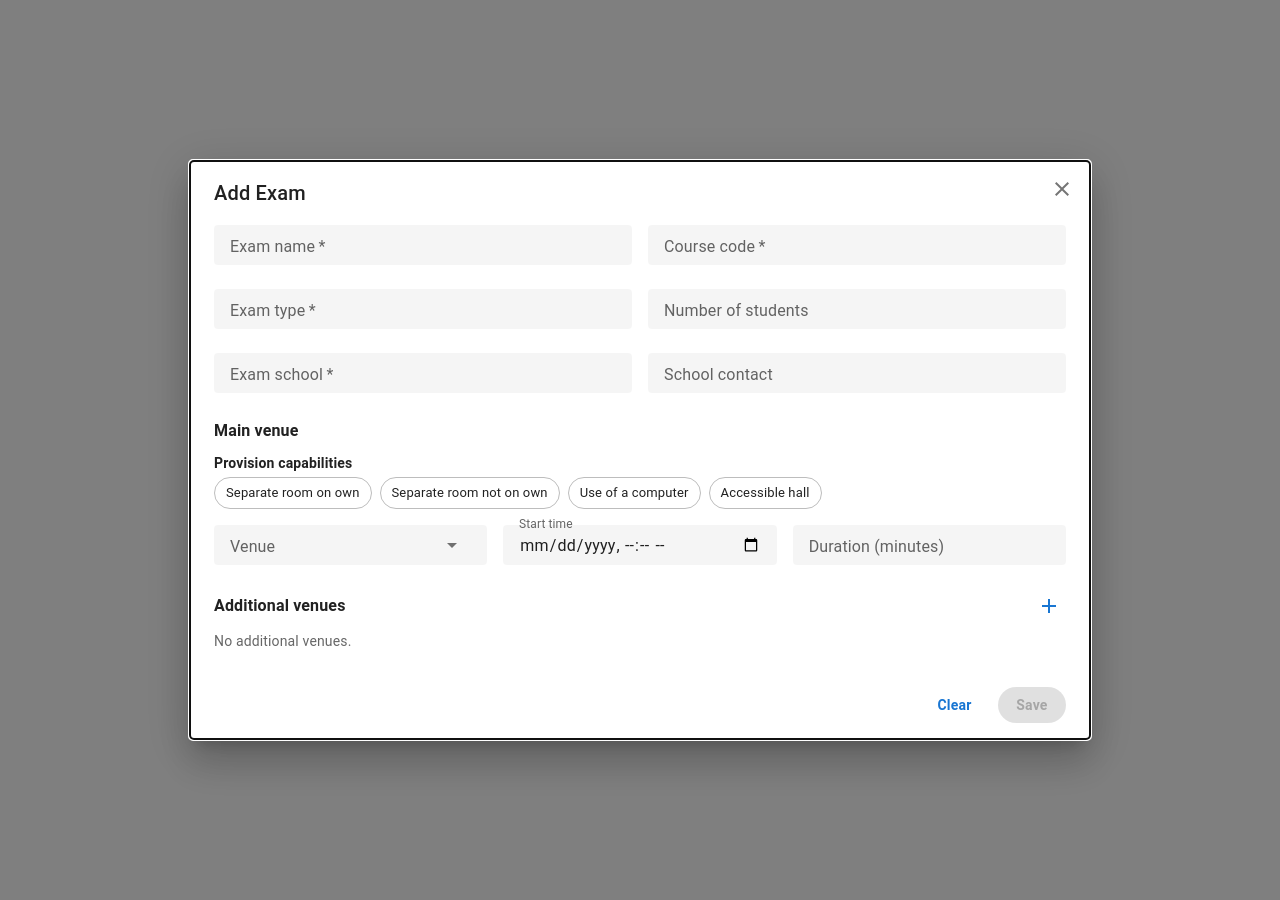
Scenario: EditExamDialog (create mode) › clears fields when Clear is clicked
The image size is (1280, 900).
In the field labelled "Exam name *": x=423, y=245 230,234 -> 616,257, type "Chem 101"
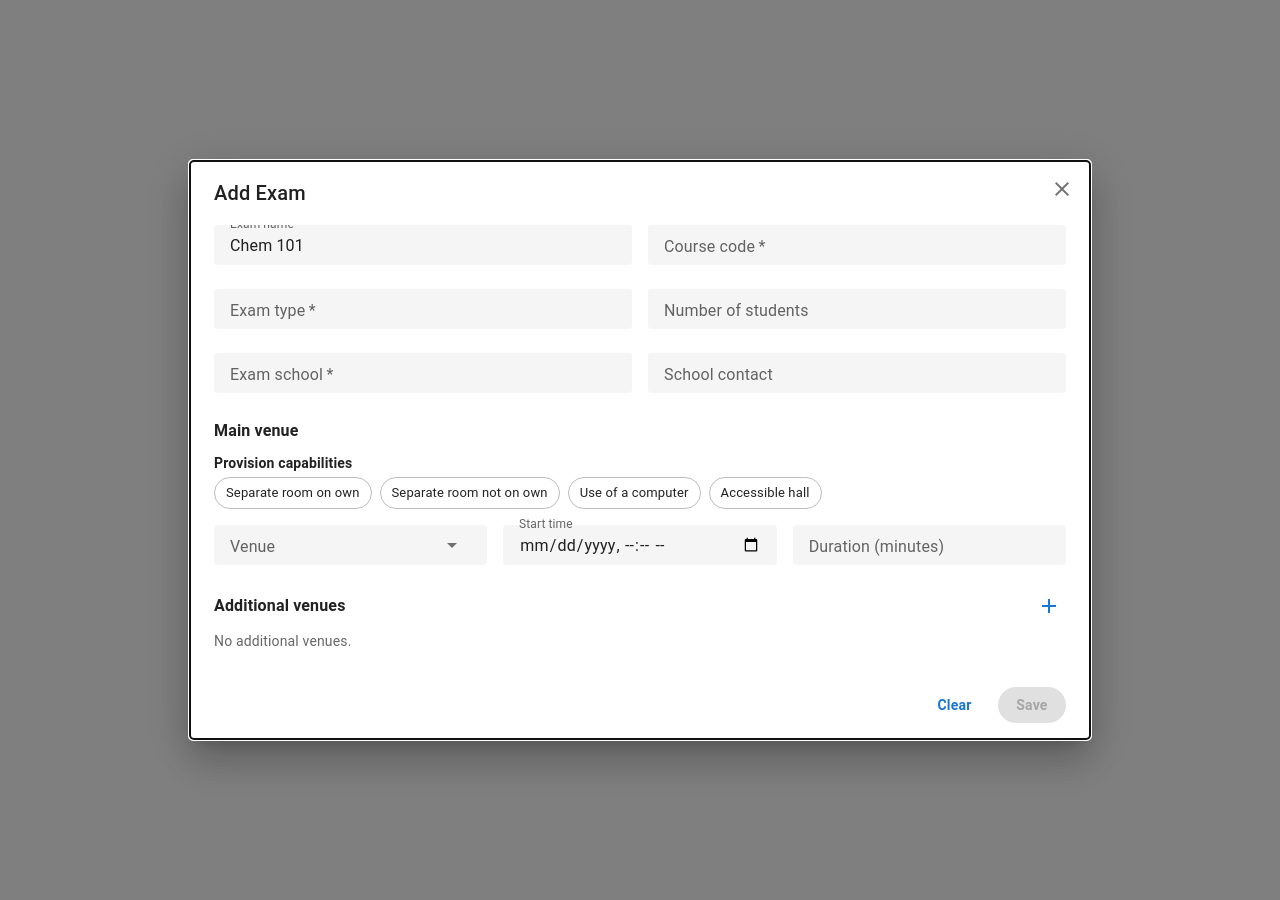
In the field labelled "Course code *": x=857, y=245 664,234 -> 1050,257, type "CHEM101"
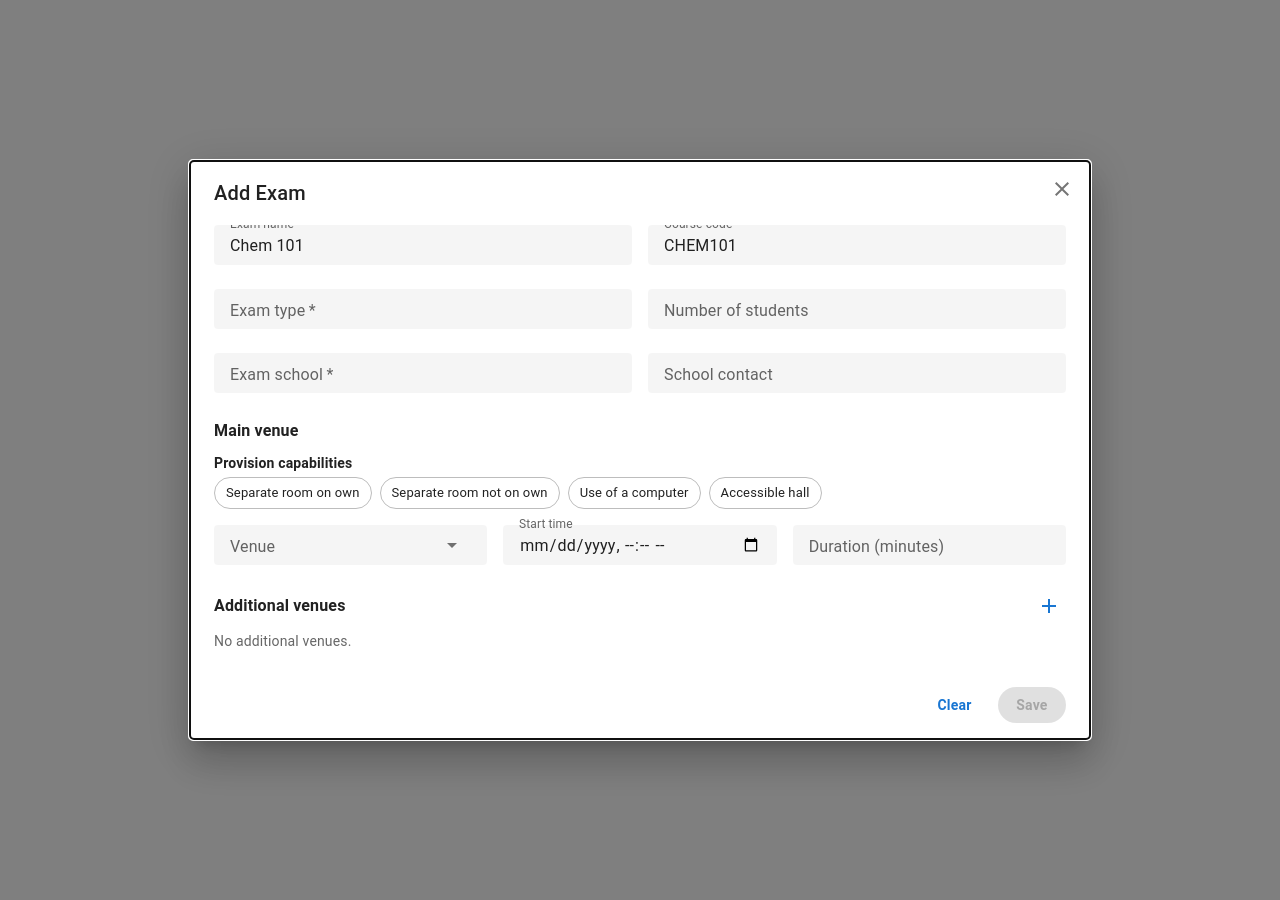
Click the button "Clear": x=954, y=705 919,687 -> 990,723
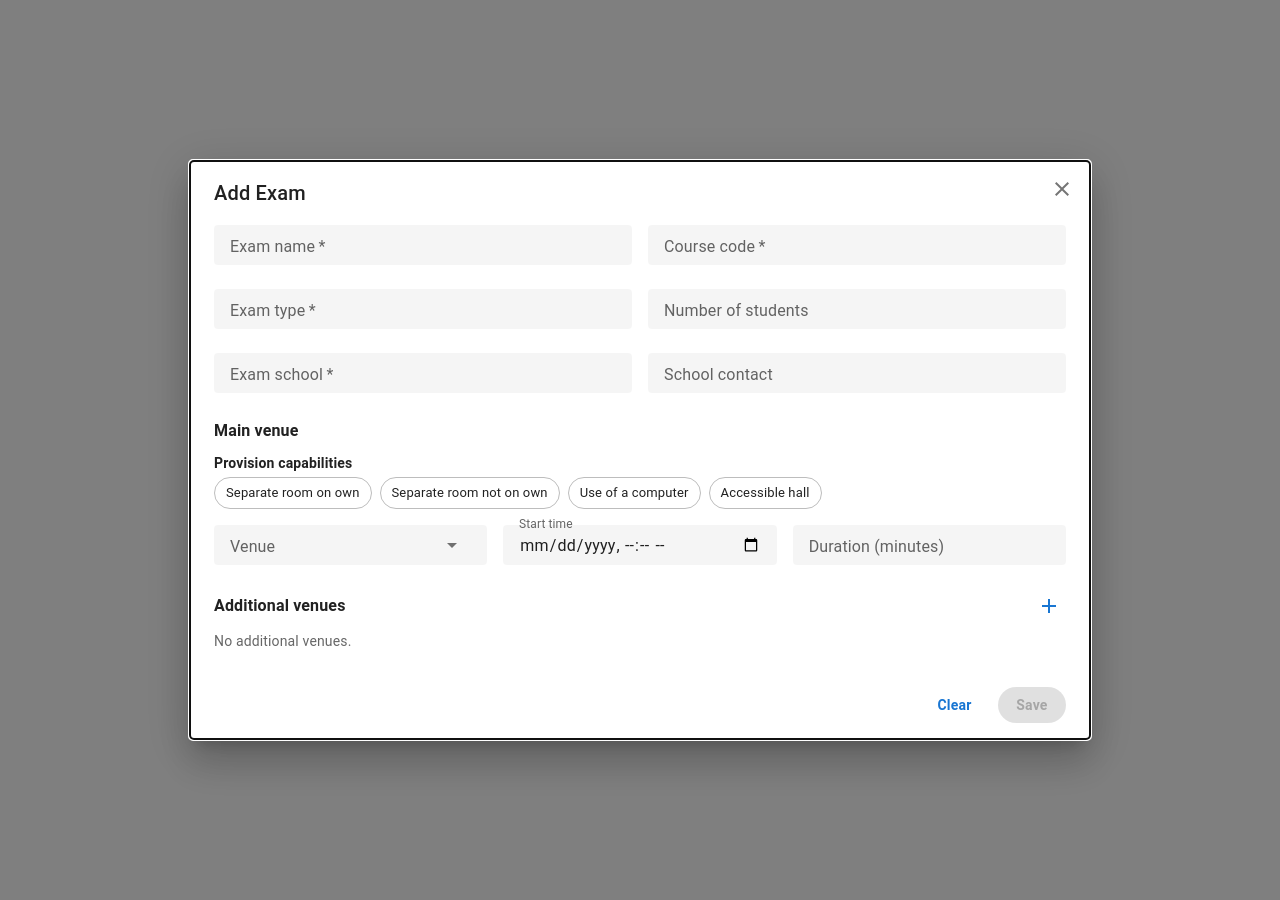
Now the field labelled "Exam name *" is empty, box 230,234 -> 616,257
Now the field labelled "Course code *" is empty, box 664,234 -> 1050,257
